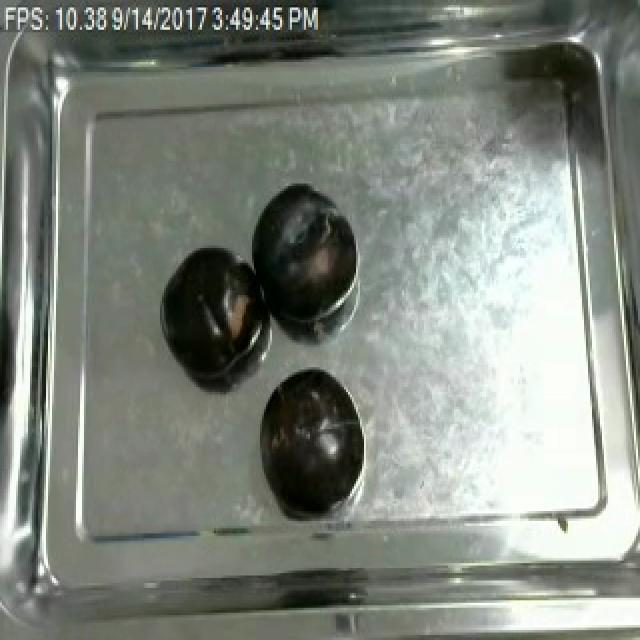Fruit: (246, 181, 354, 328), (256, 365, 360, 516), (156, 241, 264, 382)
